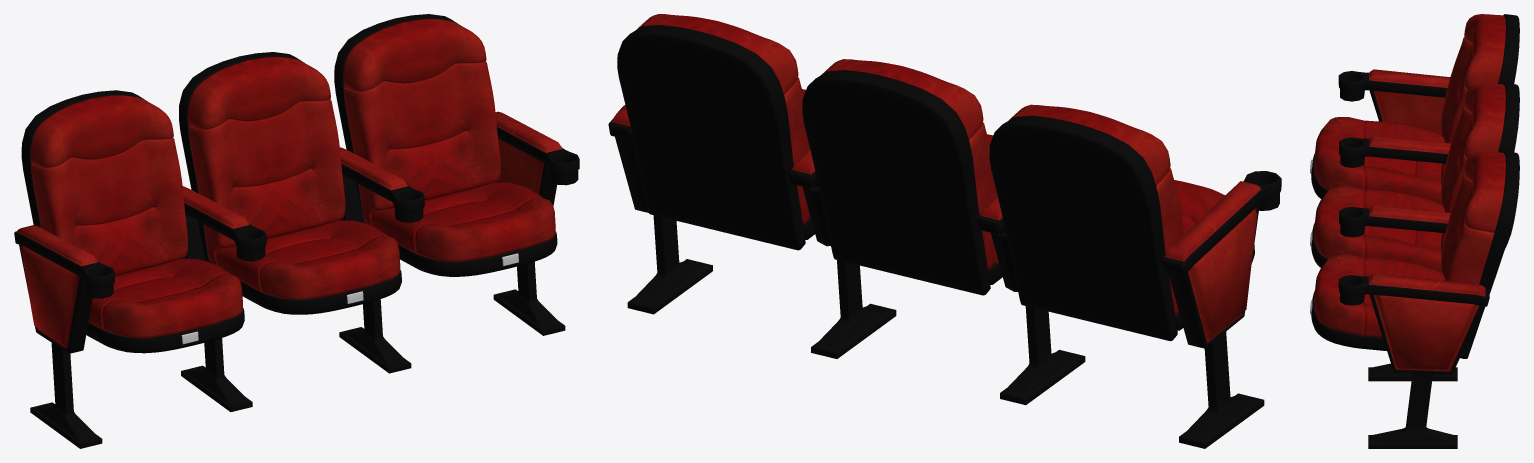
The model's file is armchair_cinema.fbx.
3 views of the same model, side by side, from view 1: azimuth 30°, elevation 25°; view 2: azimuth 150°, elevation 25°; view 3: azimuth 270°, elevation 25° (orthographic). The views are drawn at different scales.
Parts seen in each view (by area): view 1: armchair (3), armchair, armchair (2); view 2: armchair (3), armchair (2), armchair; view 3: armchair, armchair (3), armchair (2).
Boxes of the visible parts, box(x1,y1,x2,y2) form: armchair (3): box(14, 90, 266, 448); armchair: box(334, 14, 579, 335); armchair (2): box(179, 52, 424, 373); armchair (3): box(977, 104, 1281, 448); armchair (2): box(788, 59, 1002, 358); armchair: box(608, 14, 814, 314); armchair: box(1310, 151, 1519, 448); armchair (3): box(1310, 14, 1519, 203); armchair (2): box(1310, 83, 1519, 381).
Size of what is drawn, in the model's own units: 247 by 131 by 101.
